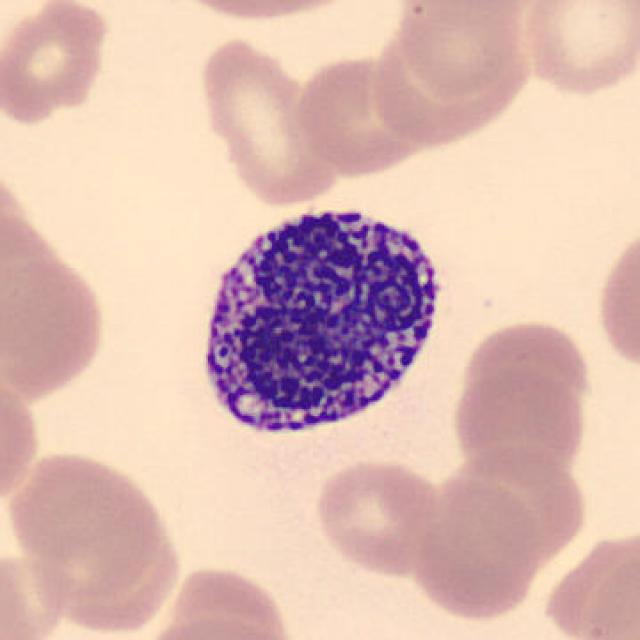Basophil: (187, 188, 455, 448)
RBC: (3, 446, 170, 607), (192, 32, 341, 210), (407, 471, 546, 624), (428, 444, 590, 567), (370, 27, 535, 145), (294, 53, 434, 186), (0, 240, 112, 404), (448, 365, 590, 481), (311, 457, 446, 578), (0, 0, 116, 129), (455, 316, 596, 414), (394, 0, 531, 100), (516, 0, 638, 99), (537, 525, 640, 640), (149, 561, 299, 638), (592, 220, 640, 376), (0, 543, 75, 640), (0, 365, 44, 515), (157, 0, 375, 25), (138, 613, 288, 640)
